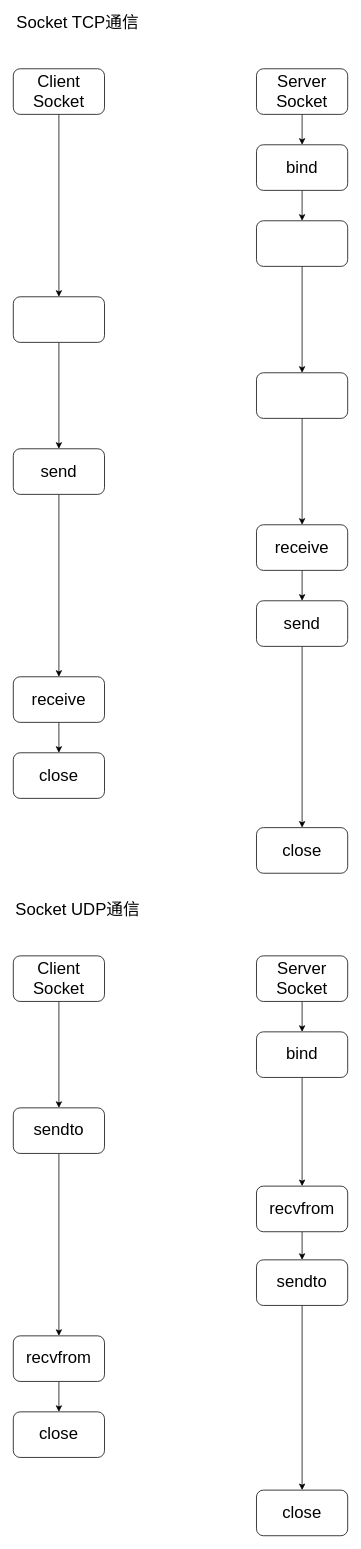
Some shapes in this 361 by 1549 pixel diagram are drawn without their labels. The centre of each missing label's shape, as x and y in pixels:
accept: (302,395)
connect: (58,319)
listen: (302,243)
